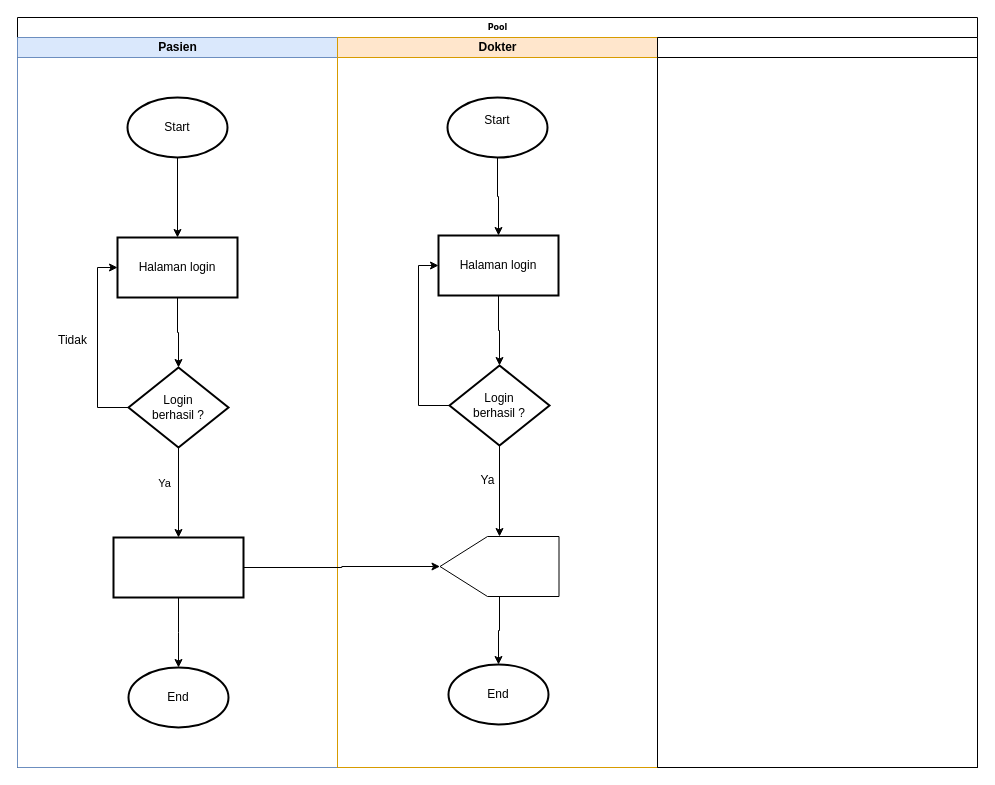
Image size: 995x785. Some labels were removed from this diagram. Here are the shapes that lost their labels. From the top down, the centre of each, then its label:
At (817,402): "Admin".
At (178,567): "Pilih treatment, dokter dan tanggal endpointment".
At (499,566): "Melihat daftar endpointment".
